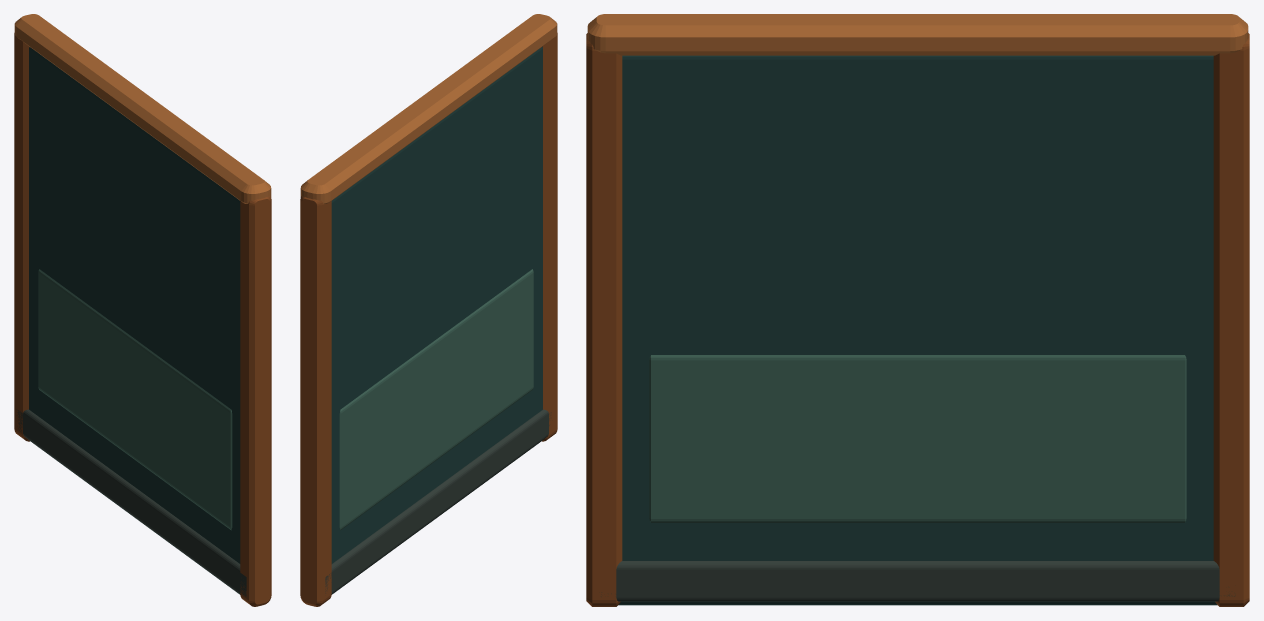
Rendered from partition.obj.
The picture shows the model from 3 angles, left to right: view 1: azimuth 30°, elevation 25°; view 2: azimuth 150°, elevation 25°; view 3: azimuth 270°, elevation 25°; orthographic projection. The views are drawn at different scales.
Parts seen in each view (by area): view 1: solid_panel, lower_inset, terminal_post, cap, skirting; view 2: solid_panel, lower_inset, terminal_post, cap, skirting; view 3: solid_panel, lower_inset, terminal_post, cap, skirting.
Boxes of the visible parts, x1,y1,x2,y2 form: solid_panel: (29, 46, 240, 594); lower_inset: (38, 269, 232, 530); terminal_post: (14, 33, 271, 606); cap: (14, 14, 271, 203); skirting: (16, 409, 246, 596); solid_panel: (331, 46, 542, 594); lower_inset: (339, 269, 533, 530); terminal_post: (300, 33, 557, 606); cap: (300, 14, 557, 203); skirting: (325, 409, 551, 594); solid_panel: (618, 55, 1217, 605); lower_inset: (649, 355, 1186, 522); terminal_post: (586, 33, 1249, 606); cap: (587, 14, 1248, 55); skirting: (601, 561, 1235, 601).
Bounding box in the file's own units: 0.15 × 2.13 × 2.2.
